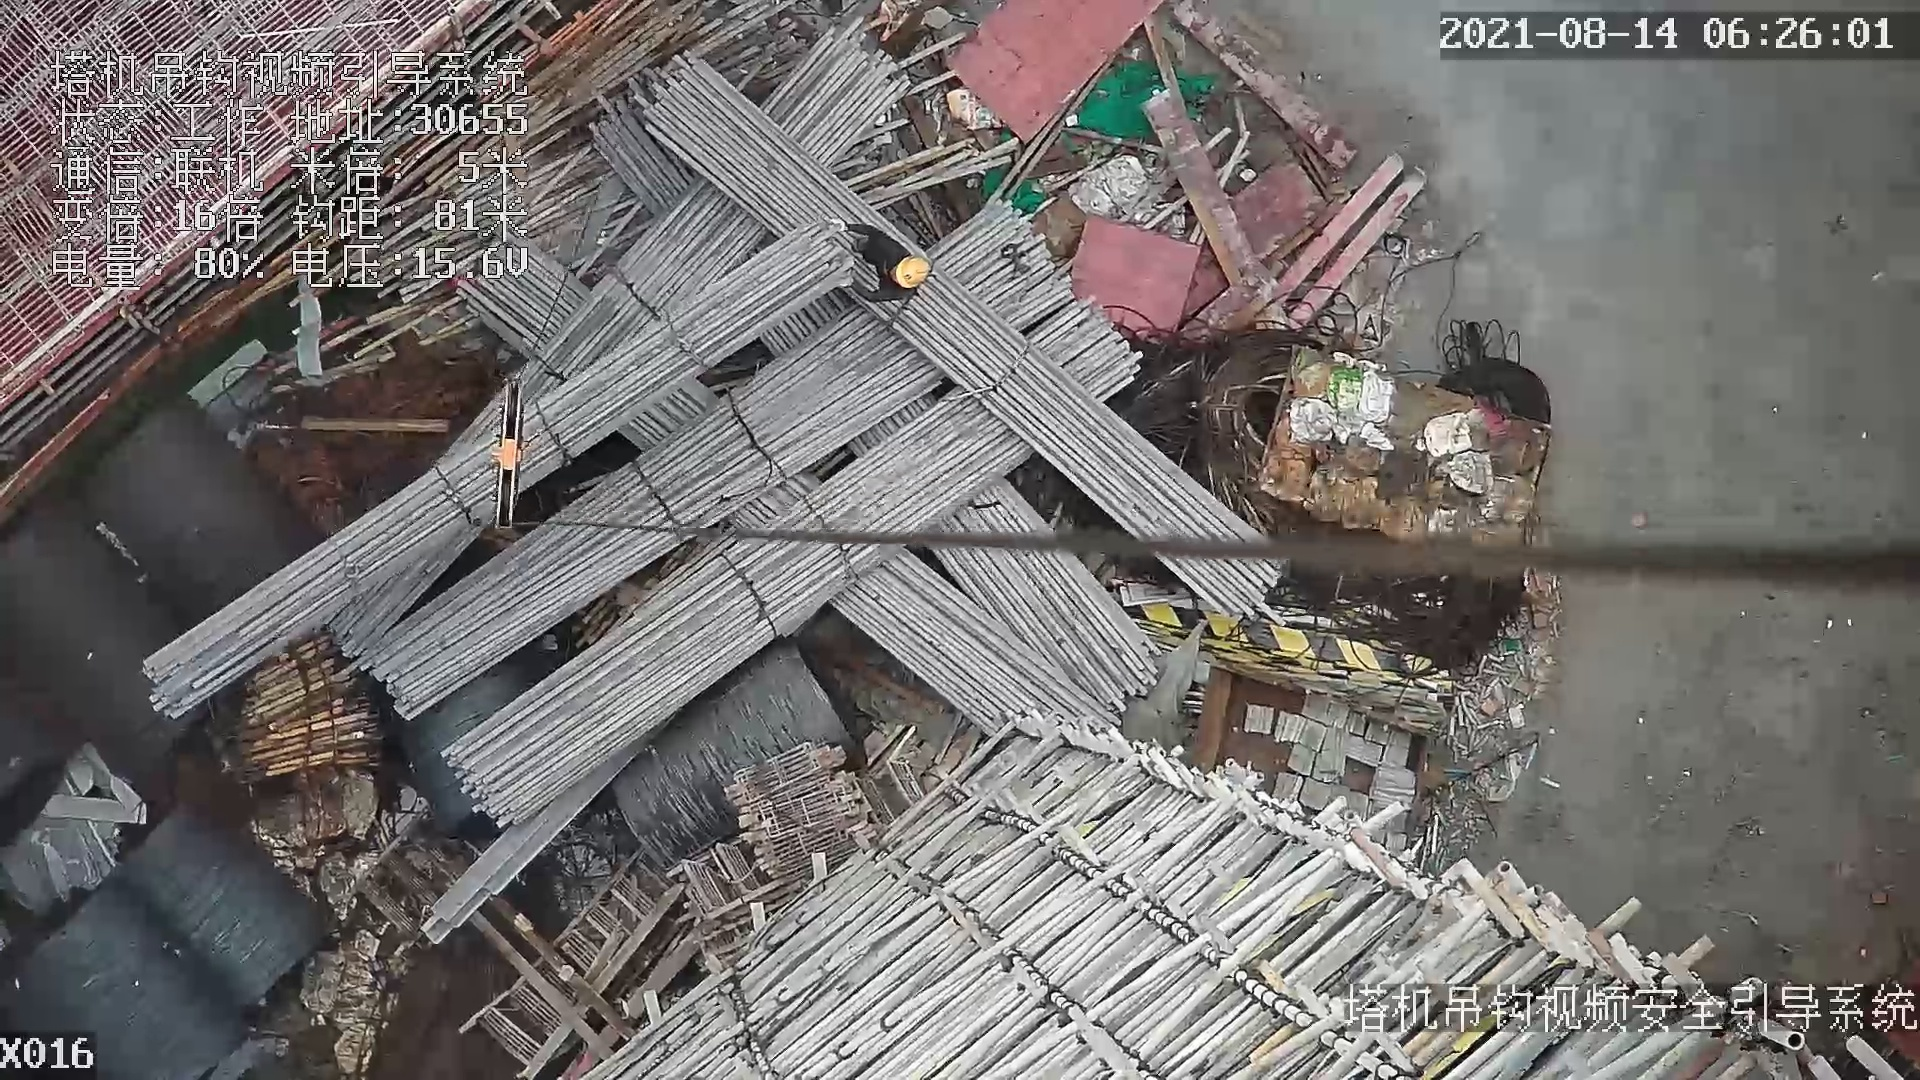helmet: (891, 254, 929, 293)
hook: (486, 378, 533, 533)
person: (833, 215, 931, 309)
